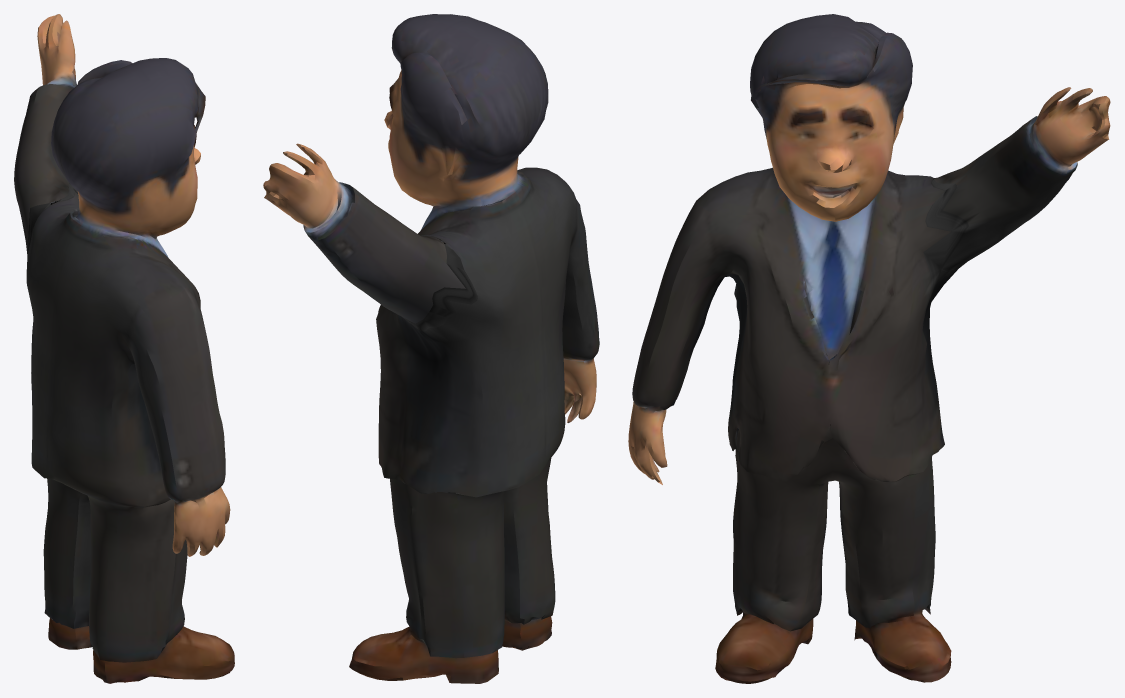
File: cap01 (1).fbx
3 views of the same model, side by side, from view 1: azimuth 30°, elevation 25°; view 2: azimuth 150°, elevation 25°; view 3: azimuth 270°, elevation 25° (orthographic). The views are drawn at different scales.
Parts seen in each view (by area): view 1: Retopo_temp; view 2: Retopo_temp; view 3: Retopo_temp.
Part boxes in pixels (left/top/right/bottom): Retopo_temp: left=14, top=14, right=234, bottom=683; Retopo_temp: left=263, top=14, right=599, bottom=683; Retopo_temp: left=628, top=14, right=1110, bottom=683.
Size of the model in its own units: 59.95 by 219 by 151.
Materials: 1 (1 with a texture image).
